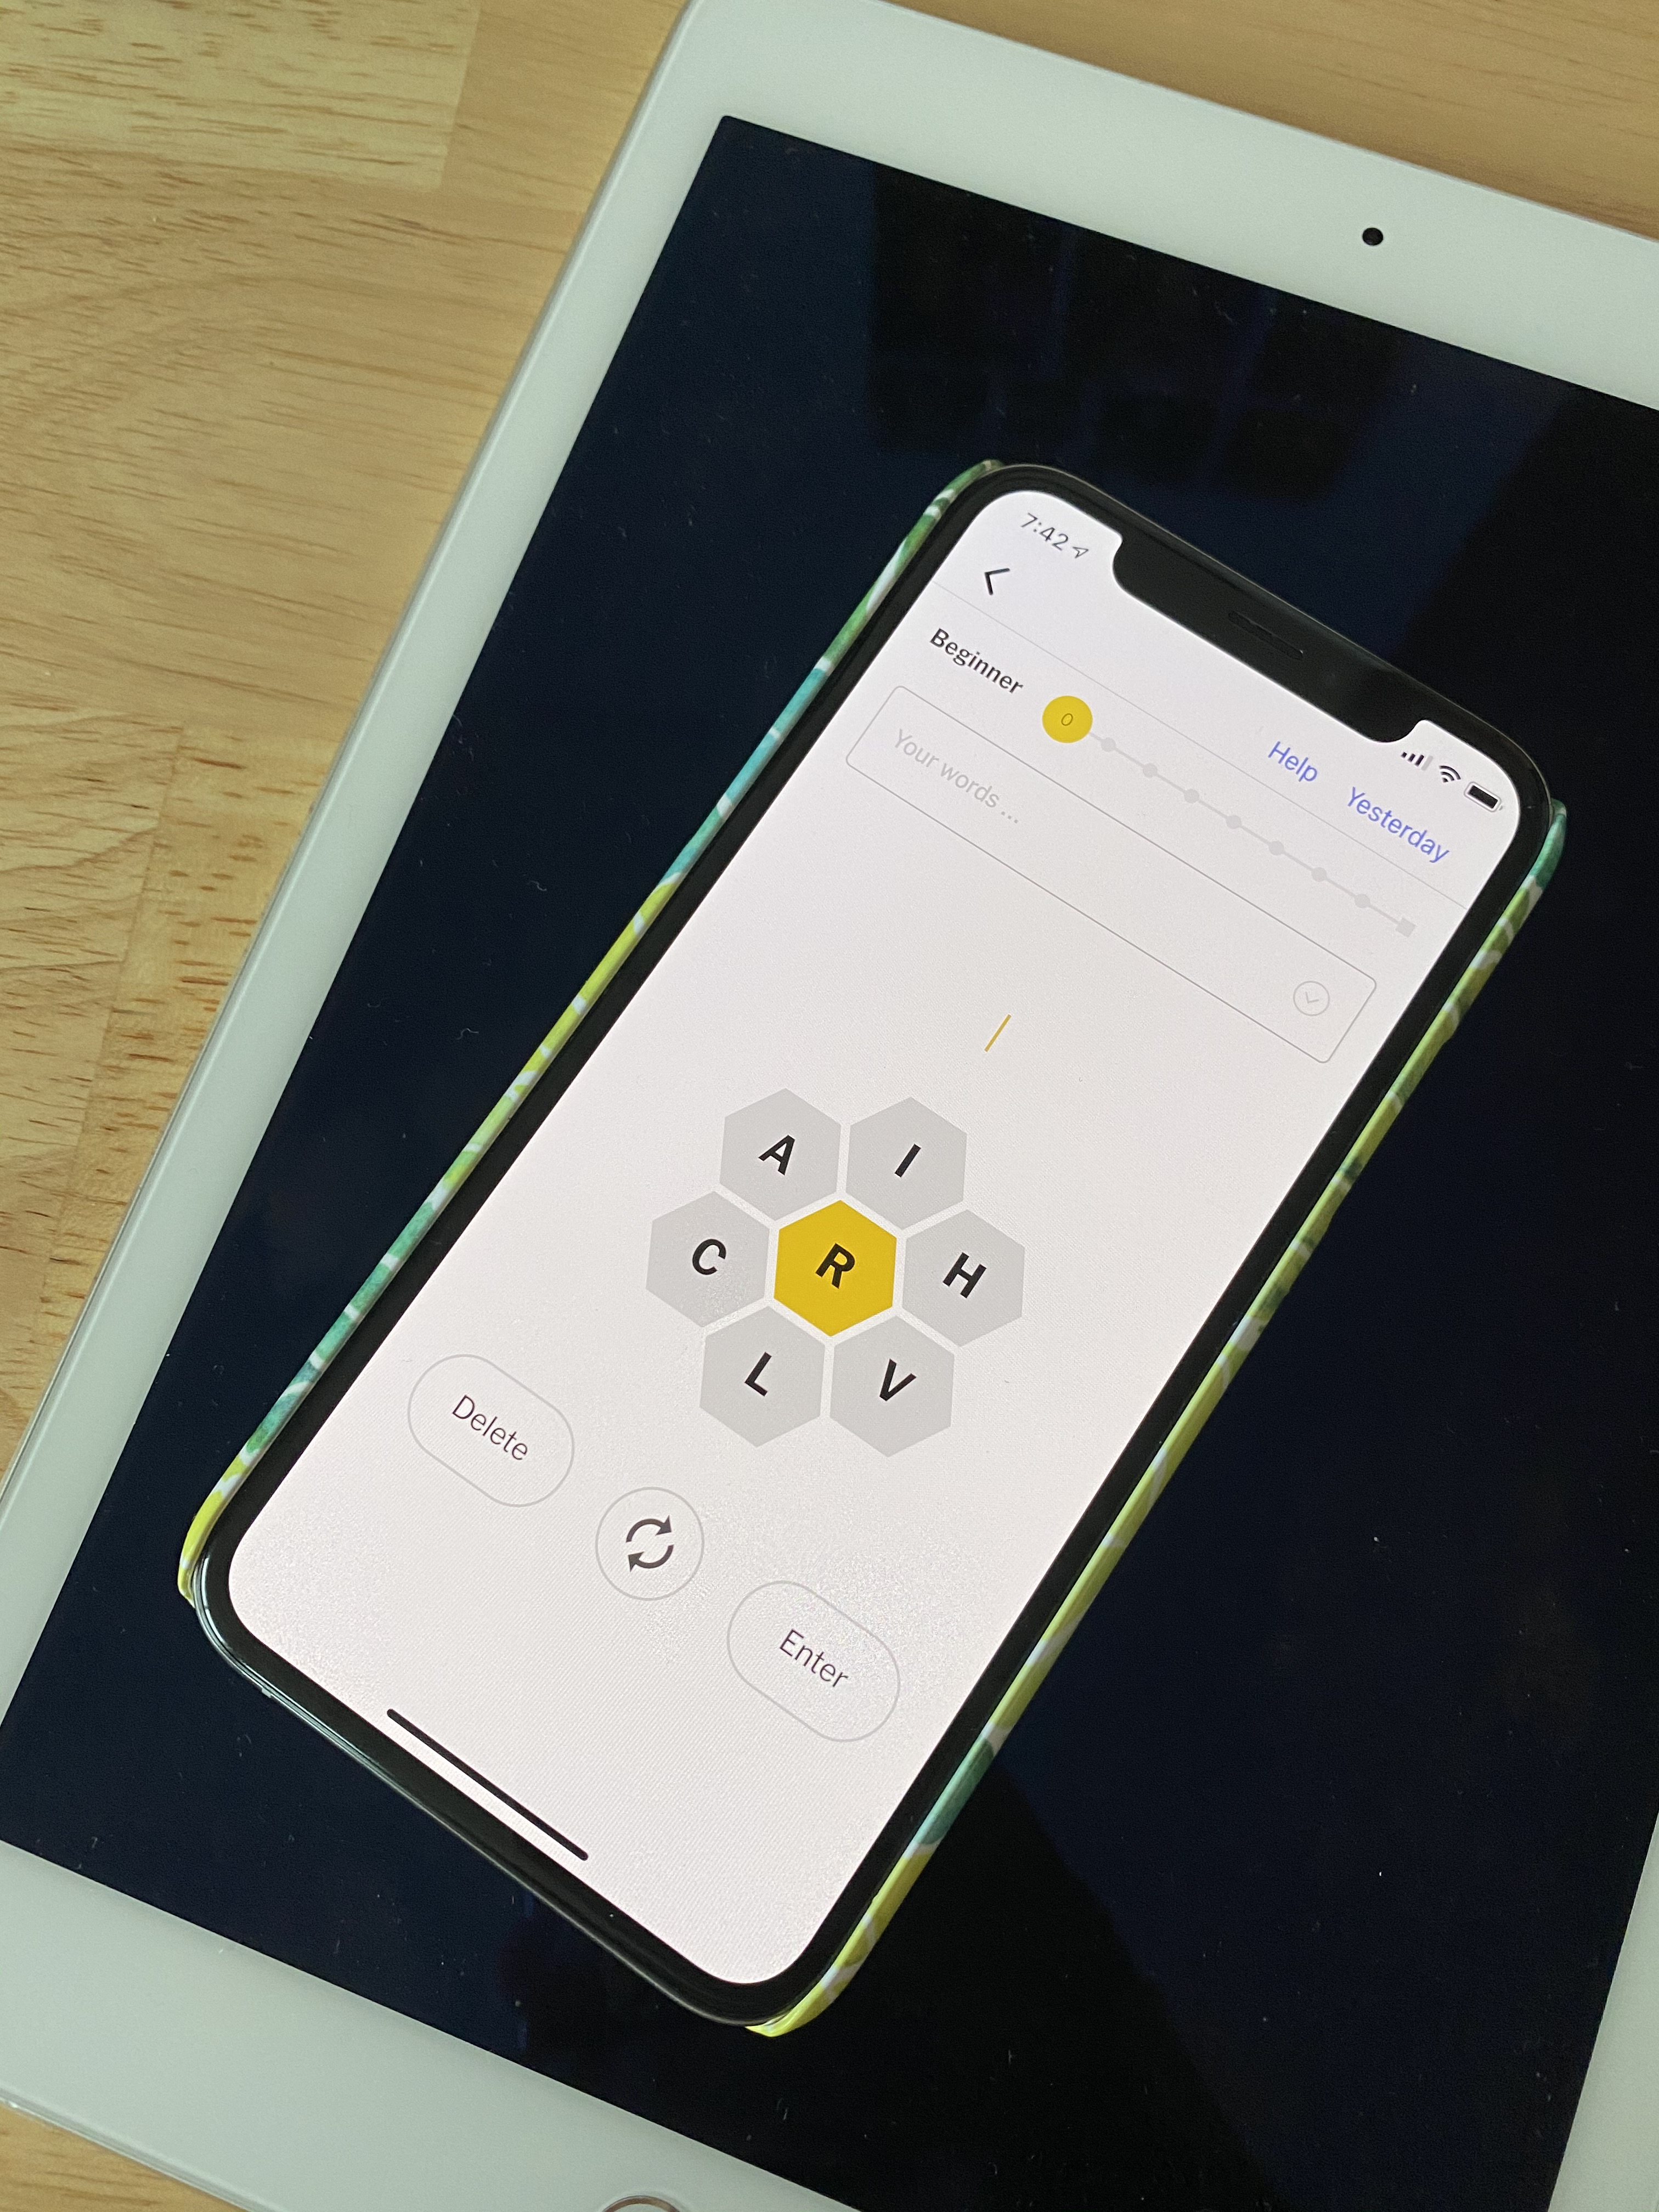Board: (568, 1001, 1114, 1543)
